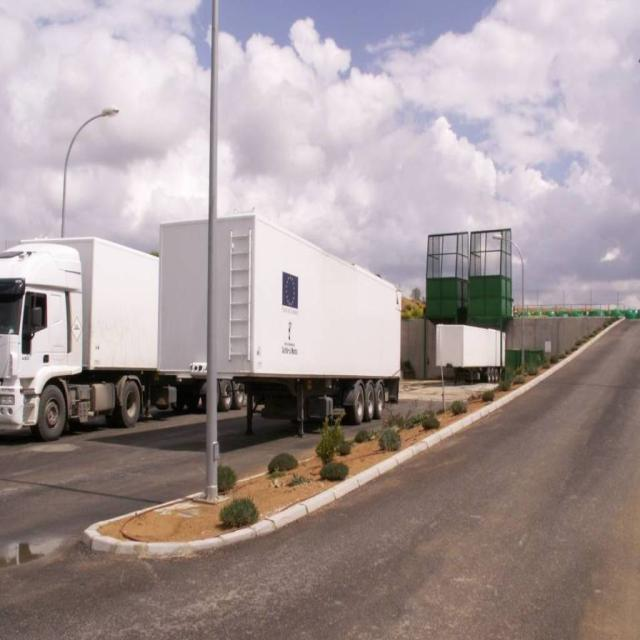Heavy Duty Truck: (162, 218, 402, 426), (1, 235, 157, 440)
